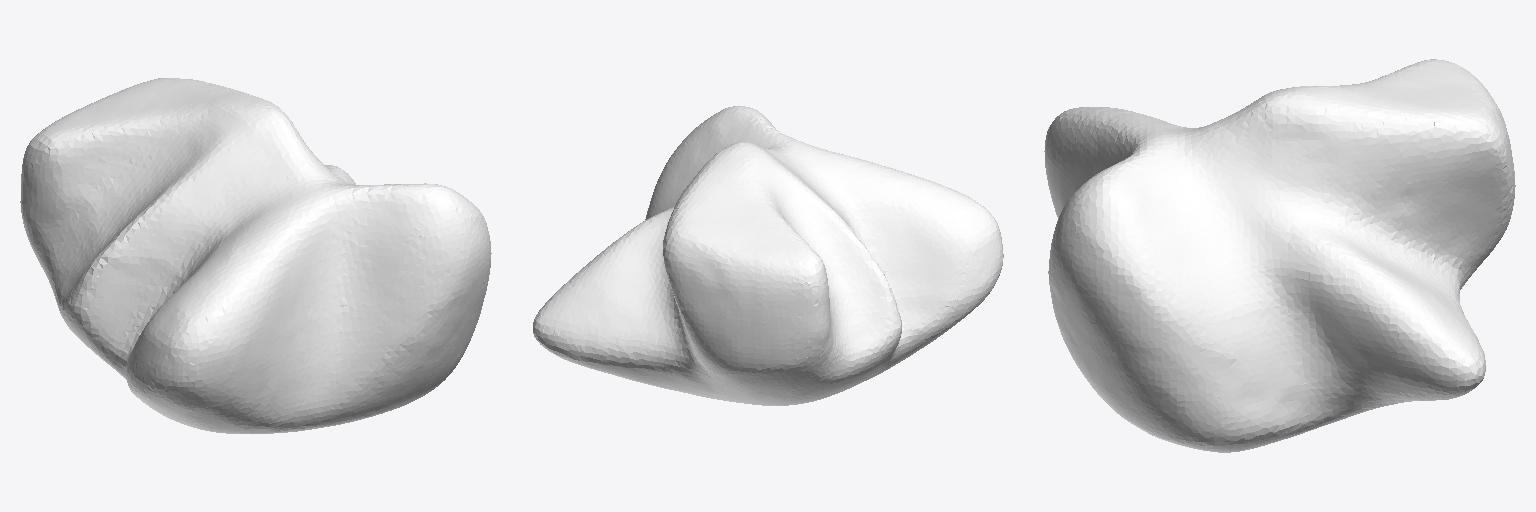
URDF robot description (feelie5):
<robot name="feelie5">
	<link name="_name">
		<visual>
			<origin rpy="0 0 0" xyz="-0.0012916264940924646 0.0024015503953664524 0.002781413048833167" />
			<geometry>
				<mesh filename="feelie5.obj" scale="0.001 0.001 0.001" />
			</geometry>
			<material name="texture">
				<color rgba="1.0 1.0 1.0 1.0" />
			</material>
		</visual>
		<collision>
			<geometry>
				<mesh filename="feelie5_vhacd.obj" scale="0.001 0.001 0.001" />
			</geometry>
		<origin rpy="0 0 0" xyz="-0.0012916264940924646 0.0024015503953664524 0.002781413048833167" /></collision>
		<inertial>
			<mass value="1.0" />
			<inertia ixx="1.0" ixy="0.0" ixz="0.0" iyy="1.0" iyz="0.0" izz="1.0" />
		</inertial>
	</link>
</robot>

--- What the picture shows (computed from the rendered views, not written in the file) ---
Views: 3 orthographic renders of the robot side by side, from view 1: azimuth 30°, elevation 25°; view 2: azimuth 150°, elevation 25°; view 3: azimuth 270°, elevation 25°.
Model feelie5 with 1 links and 0 joints (none), rooted at _name, posed all joints at 0.
Links seen in each view (by area): view 1: _name; view 2: _name; view 3: _name.
Boxes of the visible links, box(x1,y1,x2,y2) form: _name: box(20, 78, 491, 433); _name: box(533, 106, 1003, 405); _name: box(1044, 59, 1515, 452).
Size in the robot's own frame: 0.0786 by 0.0803 by 0.0585 metres.
Meshes: 1 distinct files referenced, 1 mesh visuals loaded (1 OBJ).
